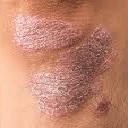Psoriasis: (34, 70, 90, 110), (13, 16, 79, 49), (64, 31, 108, 67)
